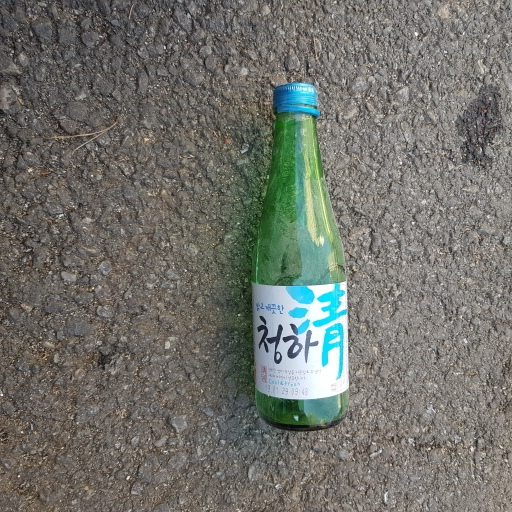Glass_0: (250, 81, 354, 430)
